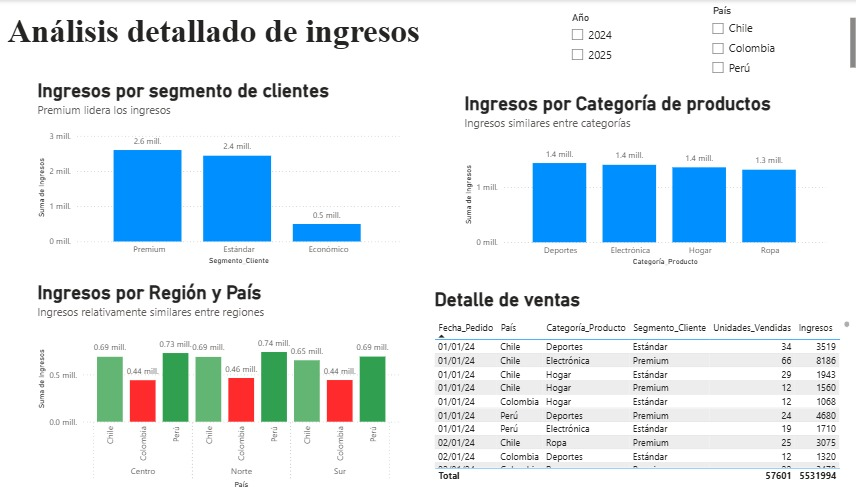

The page's visual inventory and layout, read from the dashboard file:
{"tool":"powerbi","page":{"name":"Análisis Detallado","canvas":[1280,720],"ordinal":1},"visuals":[{"type":"clusteredColumnChart","title":"Ingresos por segmento de clientes","fields":{"Category":["Andes_Retail_Group_2024_2025.Segmento_Cliente"],"Y":["Sum(Andes_Retail_Group_2024_2025.Ingresos)"]},"box":[58.9,116.1,541.1,276.8],"z":0},{"type":"clusteredColumnChart","title":"Ingresos por Categoría de productos","fields":{"Category":["Andes_Retail_Group_2024_2025.Categoría_Producto"],"Y":["Sum(Andes_Retail_Group_2024_2025.Ingresos)"]},"box":[683.9,133.9,539.3,258.9],"z":1000},{"type":"clusteredColumnChart","title":" Ingresos por Región y País","fields":{"Category":["Andes_Retail_Group_2024_2025.Región","Andes_Retail_Group_2024_2025.País"],"Y":["Sum(Andes_Retail_Group_2024_2025.Ingresos)"]},"box":[58.9,410.7,539.3,308.9],"z":2000},{"type":"tableEx","title":"     Detalle de ventas ","fields":{"Values":["Andes_Retail_Group_2024_2025.Fecha_Pedido","Andes_Retail_Group_2024_2025.País","Andes_Retail_Group_2024_2025.Categoría_Producto","Andes_Retail_Group_2024_2025.Segmento_Cliente","Sum(Andes_Retail_Group_2024_2025.Unidades_Vendidas)","Sum(Andes_Retail_Group_2024_2025.Ingresos)"]},"box":[639.3,421.4,617.9,287.5],"z":3000},{"type":"slicer","fields":{"Values":["Andes_Retail_Group_2024_2025.Fecha_Pedido.Variación.Jerarquía de fechas.Año"]},"box":[832.1,12.5,182.1,103.6],"z":4000},{"type":"slicer","fields":{"Values":["Andes_Retail_Group_2024_2025.País"]},"box":[1039.3,3.6,226.8,112.5],"z":5000},{"type":"textbox","box":[14.3,12.5,755.4,85.7],"z":6000}]}

Visuals, with their boxes in screenshot pixels (x1, y1, x2, y2), scaled from the page's 1280x720 canvas onto the 856x491 screenshot:
"Ingresos por segmento de clientes" clusteredColumnChart: BBox(39, 79, 401, 268)
"Ingresos por Categoría de productos" clusteredColumnChart: BBox(457, 91, 818, 268)
" Ingresos por Región y País" clusteredColumnChart: BBox(39, 280, 400, 490)
"     Detalle de ventas " tableEx: BBox(428, 287, 841, 483)
slicer - Andes_Retail_Group_2024_2025.Fecha_Pedido.Variación.Jerarquía de fechas.Año: BBox(556, 9, 678, 79)
slicer - Andes_Retail_Group_2024_2025.País: BBox(695, 2, 847, 79)
textbox: BBox(10, 9, 515, 67)
